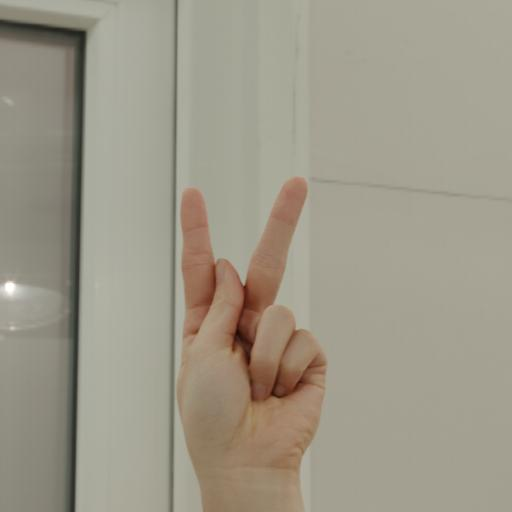K: (152, 167, 336, 487)
